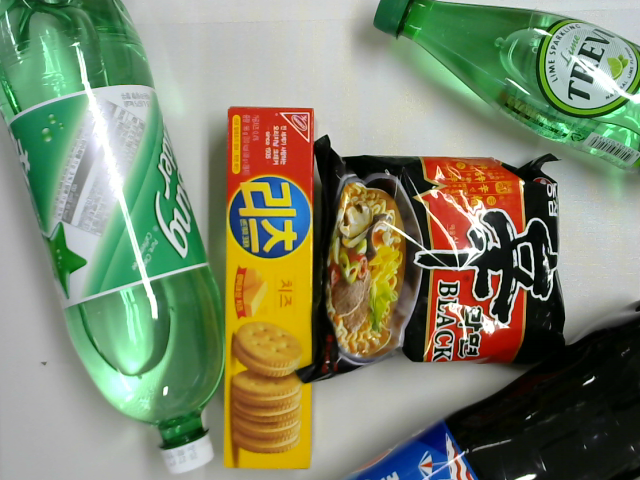Chilseong_Cider_1.5L: (1, 1, 227, 476)
Pepsi_Cola_1.5L: (336, 297, 639, 480)
Ritz_Sand_Cracker: (222, 103, 316, 473)
Sinramen_Black: (295, 131, 569, 386)
Treviraim_500ml: (371, 1, 640, 182)
